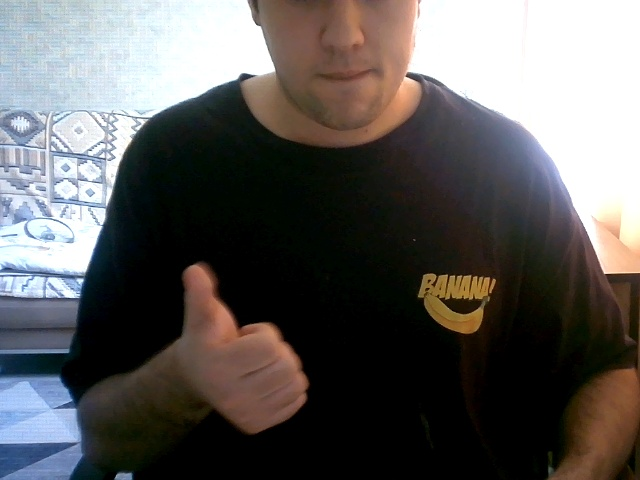good: (162, 247, 322, 442)
